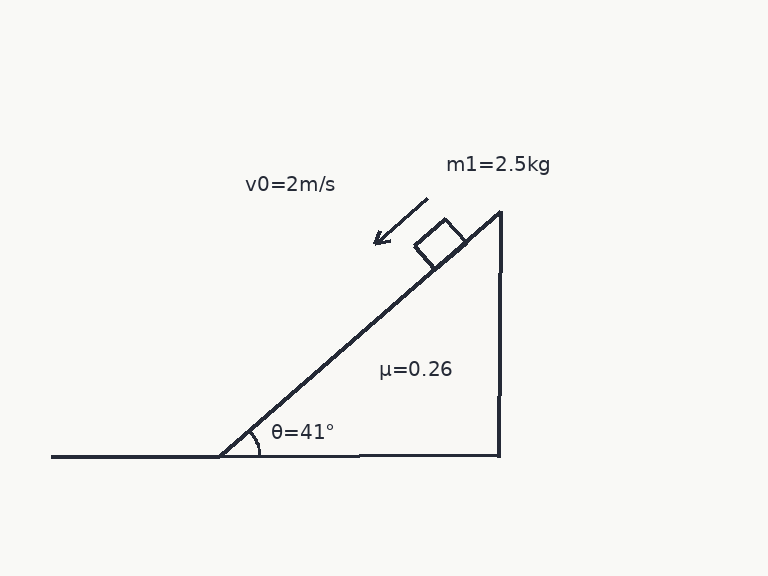block: (412, 217, 468, 271)
ramp: (217, 210, 502, 458)
